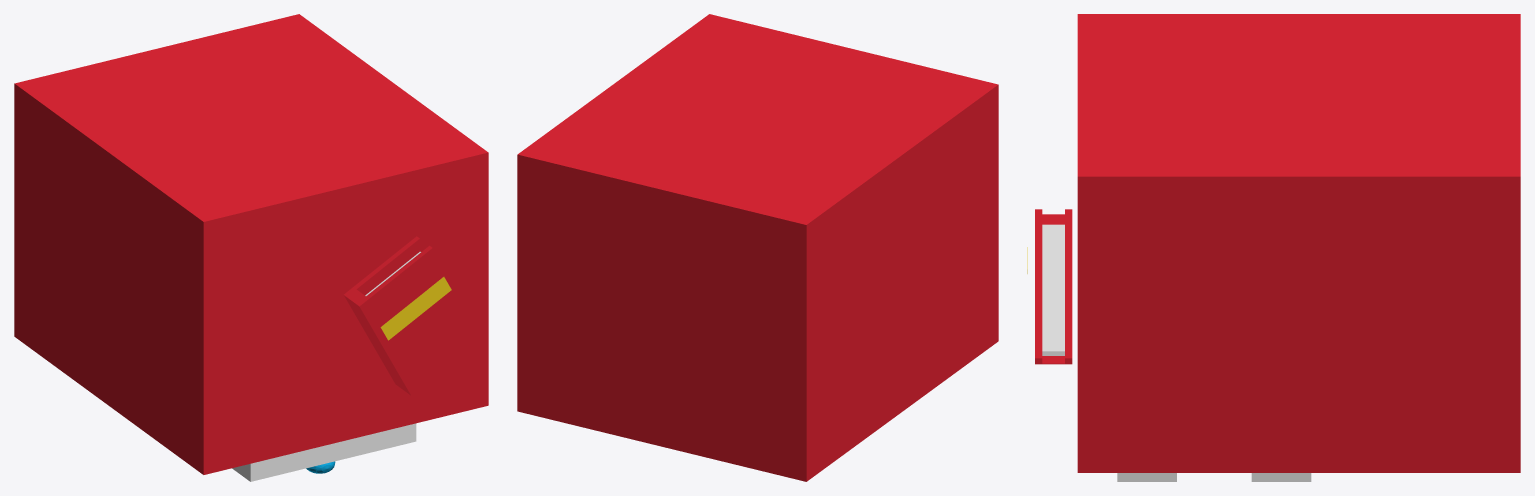
File: tinker.obj
The picture shows the model from 3 angles, left to right: view 1: azimuth 30°, elevation 25°; view 2: azimuth 150°, elevation 25°; view 3: azimuth 270°, elevation 25°; orthographic projection. The views are drawn at different scales.
Parts seen in each view (by area): view 1: group_0_15277357, group_0_16448250, group_0_16768282; view 2: group_0_15277357; view 3: group_0_15277357, group_0_16448250.
Boxes of the visible parts, x1=… form: group_0_15277357: x1=14, y1=14, x2=488, y2=474; group_0_16448250: x1=232, y1=251, x2=420, y2=481; group_0_16768282: x1=380, y1=277, x2=451, y2=340; group_0_15277357: x1=517, y1=14, x2=998, y2=481; group_0_15277357: x1=1035, y1=14, x2=1520, y2=472; group_0_16448250: x1=1042, y1=224, x2=1311, y2=481.
Size of the model in its own units: 51.53 by 52.77 by 66.01.
